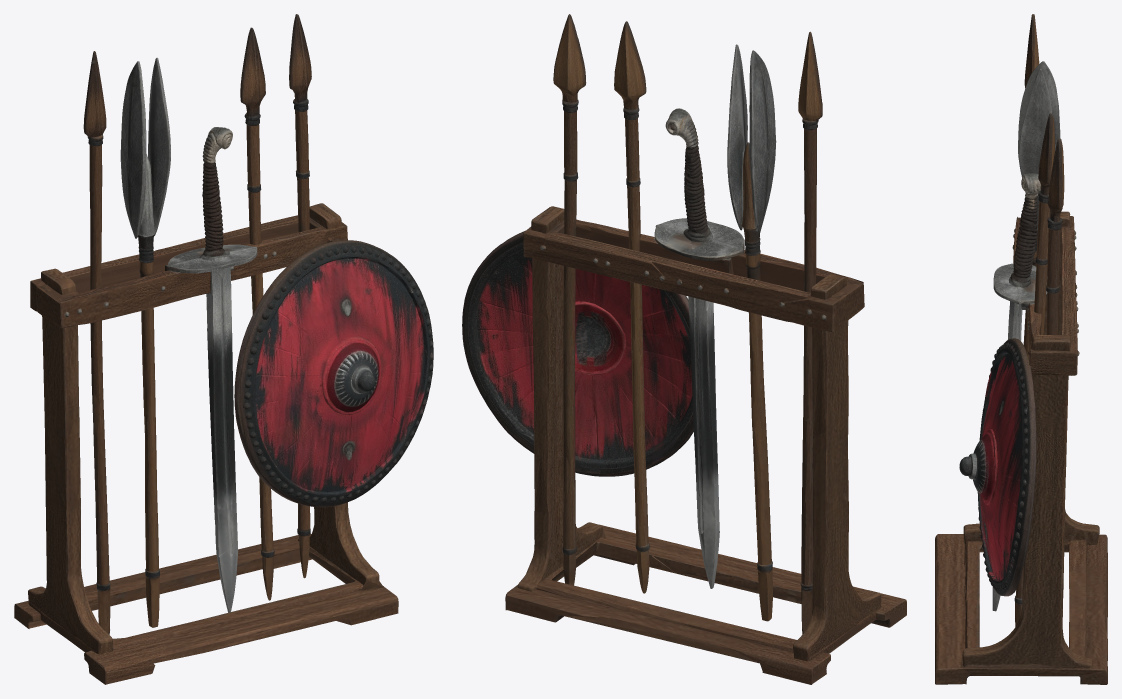
Rendered from weapon_rack.glb.
The picture shows the model from 3 angles, left to right: view 1: azimuth 30°, elevation 25°; view 2: azimuth 150°, elevation 25°; view 3: azimuth 270°, elevation 25°; orthographic projection. The views are drawn at different scales.
Size of the model in its own units: 1.28 by 1.9 by 0.5365.
Materials: 1 (1 with a texture image).
